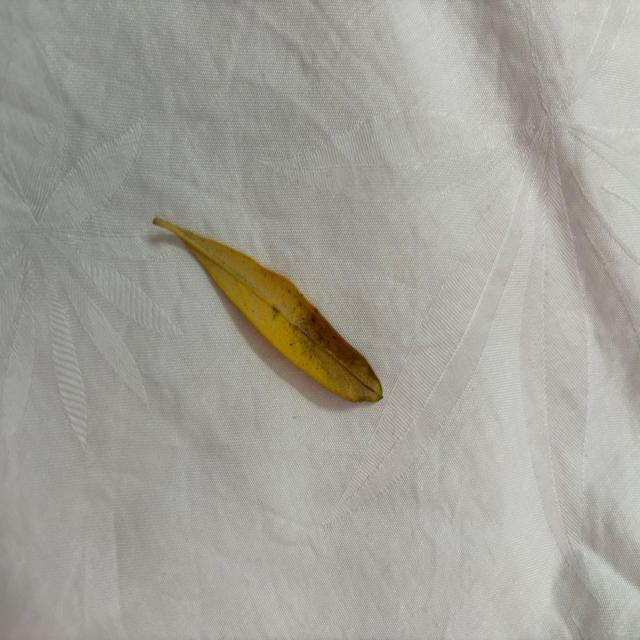OlivePeacockSpot: (154, 219, 382, 402)
